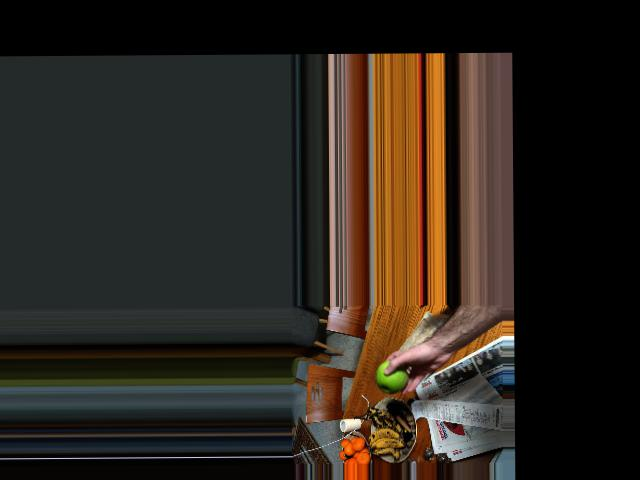apple: (374, 358, 414, 393)
